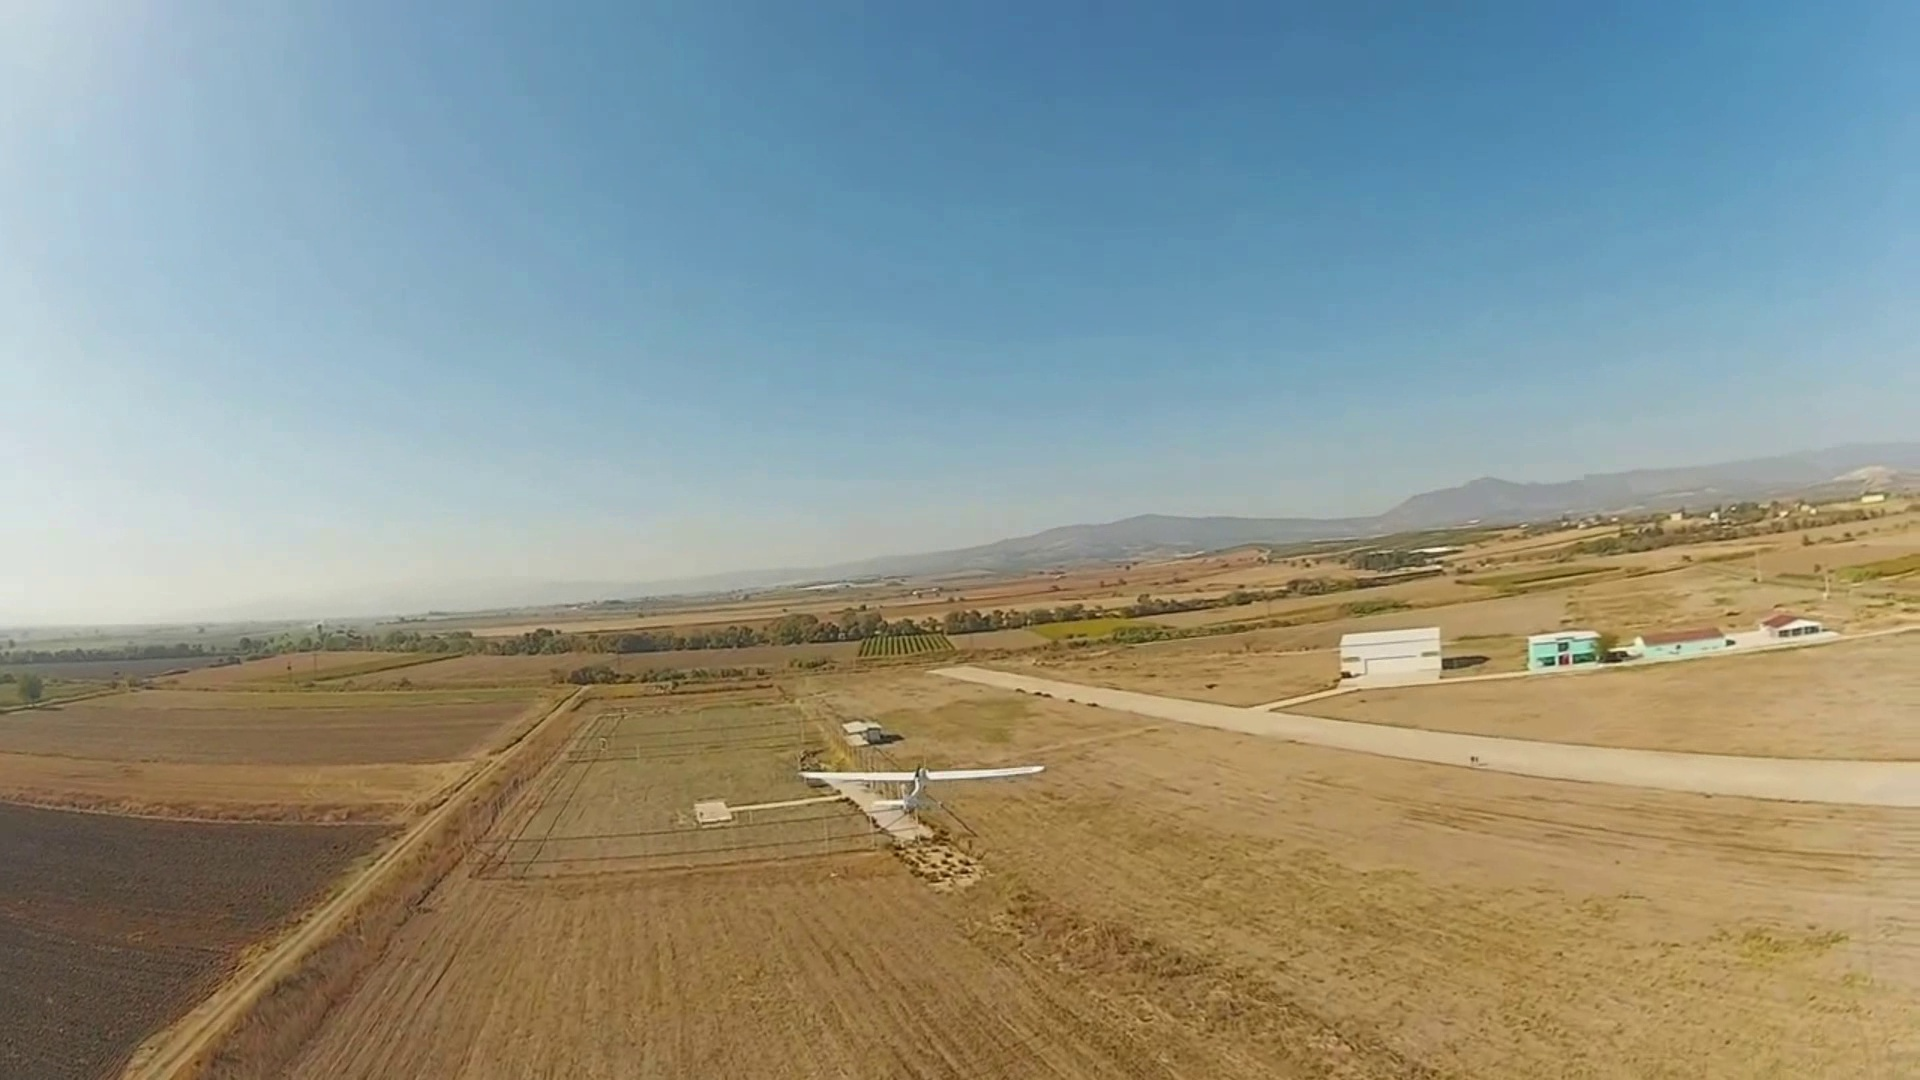airplane: (796, 709, 1048, 837)
